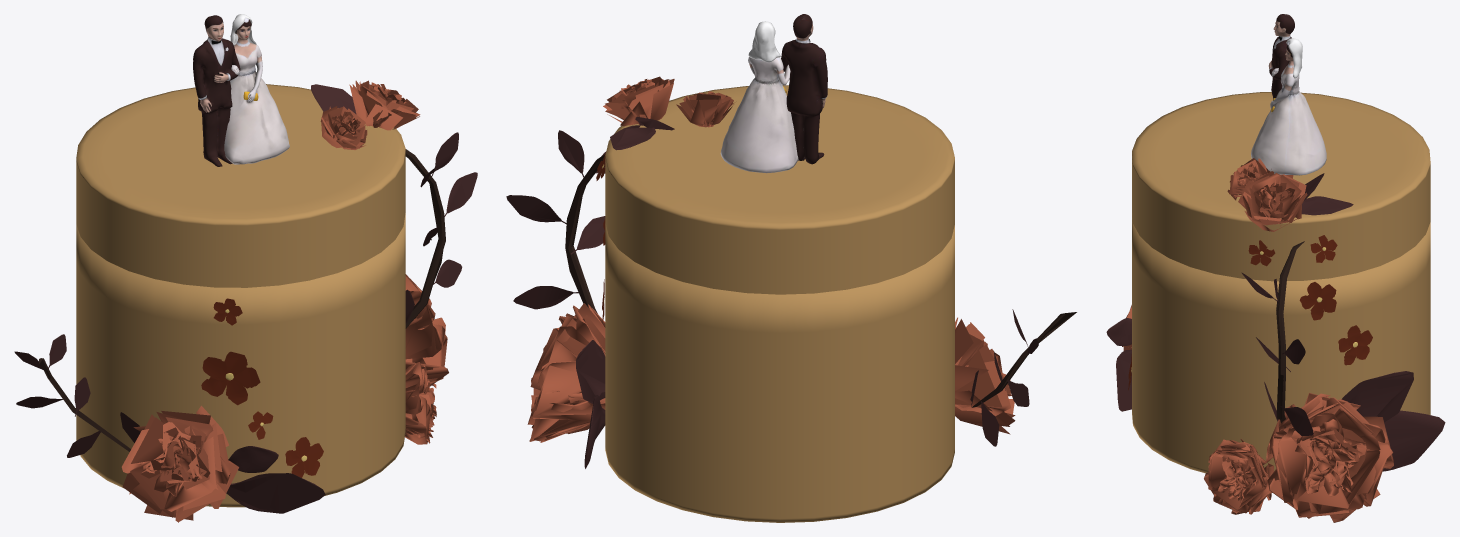
Rendered from 1-tier-caramel-roses-bridegroom.glb.
3 renders of one model, left to right at view 1: azimuth 30°, elevation 25°; view 2: azimuth 150°, elevation 25°; view 3: azimuth 270°, elevation 25°, orthographic. The views are drawn at different scales.
Parts seen in each view (by area): view 1: Cylinder.019, 13501_Cake_Topper_Bride_Groom_v1_L1.004, grid.039, Plane.083, Plane.074, Plane.075, grid.038, grid.041, grid.033, Sphere.050, grid.035, Sphere.054 (+2 smaller); view 2: Cylinder.019, 13501_Cake_Topper_Bride_Groom_v1_L1.004, grid.038, Plane.083, grid.039, grid.041, Plane.075, Plane.079, grid.035, Plane.086, Plane.080; view 3: Cylinder.019, grid.038, 13501_Cake_Topper_Bride_Groom_v1_L1.004, grid.033, grid.041, Plane.083, Plane.080, Plane.079, Sphere.057, Sphere.059, Plane.074, grid.035 (+4 smaller).
Boxes of the visible parts, x1=… form: Cylinder.019: x1=76, y1=84, x2=405, y2=507; 13501_Cake_Topper_Bride_Groom_v1_L1.004: x1=193, y1=14, x2=289, y2=166; grid.039: x1=121, y1=405, x2=238, y2=522; Plane.083: x1=405, y1=132, x2=477, y2=328; Plane.074: x1=226, y1=473, x2=325, y2=513; Plane.075: x1=14, y1=334, x2=140, y2=457; grid.038: x1=405, y1=274, x2=448, y2=388; grid.041: x1=349, y1=80, x2=420, y2=130; grid.033: x1=405, y1=362, x2=436, y2=444; Sphere.050: x1=201, y1=351, x2=260, y2=405; grid.035: x1=320, y1=106, x2=367, y2=149; Sphere.054: x1=285, y1=437, x2=323, y2=477; Cylinder.019: x1=605, y1=85, x2=954, y2=522; 13501_Cake_Topper_Bride_Groom_v1_L1.004: x1=720, y1=14, x2=827, y2=173; grid.038: x1=527, y1=303, x2=605, y2=442; Plane.083: x1=506, y1=130, x2=606, y2=313; grid.039: x1=955, y1=317, x2=1015, y2=434; grid.041: x1=603, y1=76, x2=674, y2=126; Plane.075: x1=970, y1=309, x2=1076, y2=446; Plane.079: x1=576, y1=340, x2=605, y2=403; grid.035: x1=676, y1=91, x2=734, y2=127; Plane.086: x1=610, y1=125, x2=655, y2=150; Plane.080: x1=584, y1=395, x2=605, y2=468; Cylinder.019: x1=1132, y1=92, x2=1430, y2=473; grid.038: x1=1266, y1=393, x2=1393, y2=522; 13501_Cake_Topper_Bride_Groom_v1_L1.004: x1=1251, y1=14, x2=1326, y2=175; grid.033: x1=1204, y1=439, x2=1273, y2=514; grid.041: x1=1238, y1=171, x2=1307, y2=231; Plane.083: x1=1241, y1=241, x2=1313, y2=435; Plane.080: x1=1382, y1=410, x2=1445, y2=471; Plane.079: x1=1341, y1=371, x2=1413, y2=422; Sphere.057: x1=1299, y1=282, x2=1336, y2=320; Sphere.059: x1=1338, y1=325, x2=1372, y2=365; Plane.074: x1=1116, y1=349, x2=1131, y2=411; grid.035: x1=1227, y1=158, x2=1271, y2=200.
Size of the model in its own units: 4.49 by 3.93 by 2.9.
Materials: 7 (1 with a texture image).
